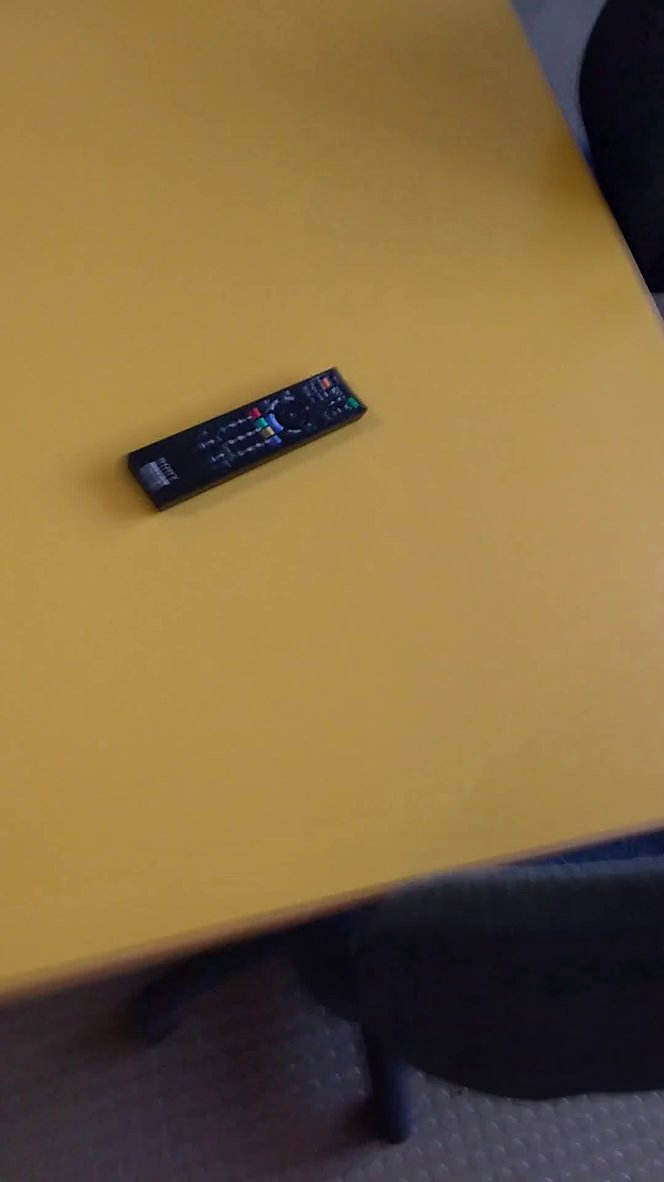remote: (119, 352, 373, 531)
